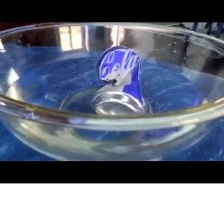can: (91, 41, 156, 123)
